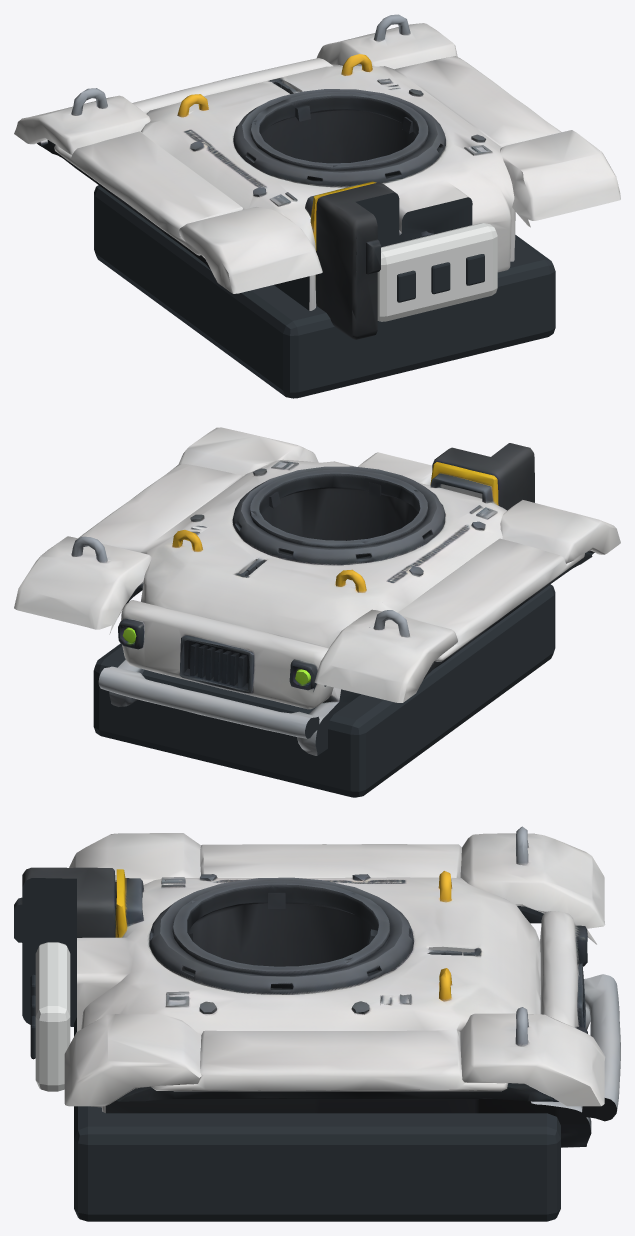
Rendered from light_tracks.glb.
3 views of the same model, one above another, from view 1: azimuth 30°, elevation 25°; view 2: azimuth 150°, elevation 25°; view 3: azimuth 270°, elevation 25° (orthographic). The views are drawn at different scales.
Parts seen in each view (by area): view 1: Body.025, ClosedUndercarriage.006, FlushRearArmor.003, RearVent.010, RearVent.009, RearVent.011; view 2: Body.025, ClosedUndercarriage.006; view 3: Body.025, ClosedUndercarriage.006, FlushRearArmor.003.
Boxes of the visible parts, left/top/right/bottom form: Body.025: left=14, top=14, right=620, bottom=339; ClosedUndercarriage.006: left=94, top=185, right=555, bottom=398; FlushRearArmor.003: left=377, top=223, right=497, bottom=321; RearVent.010: left=431, top=262, right=450, bottom=294; RearVent.009: left=397, top=270, right=415, bottom=302; RearVent.011: left=466, top=254, right=484, bottom=285; Body.025: left=14, top=427, right=620, bottom=755; ClosedUndercarriage.006: left=93, top=584, right=555, bottom=797; Body.025: left=14, top=826, right=620, bottom=1147; ClosedUndercarriage.006: left=74, top=1017, right=560, bottom=1221; FlushRearArmor.003: left=35, top=942, right=70, bottom=1091.
Bounding box in the file's own units: 1.58 × 0.7223 × 1.74.
3 materials, 1 textured.
